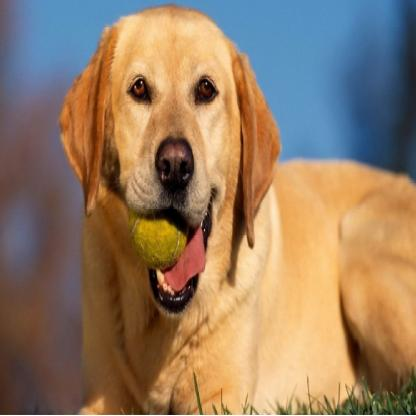dog: (57, 6, 416, 416)
